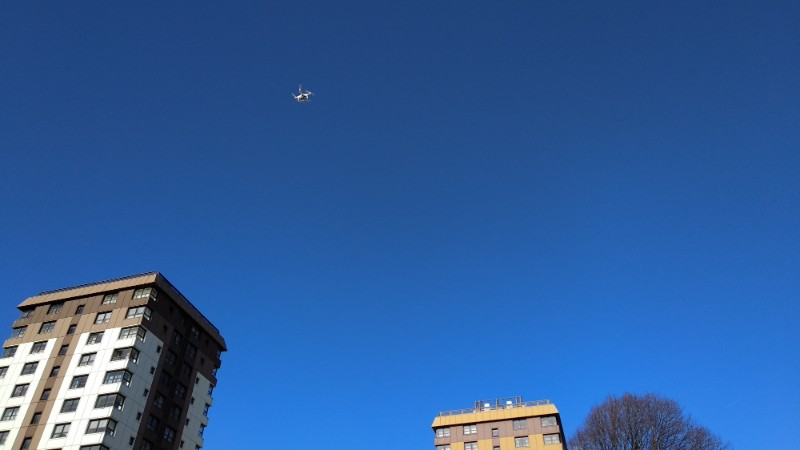drone: (290, 84, 313, 105)
